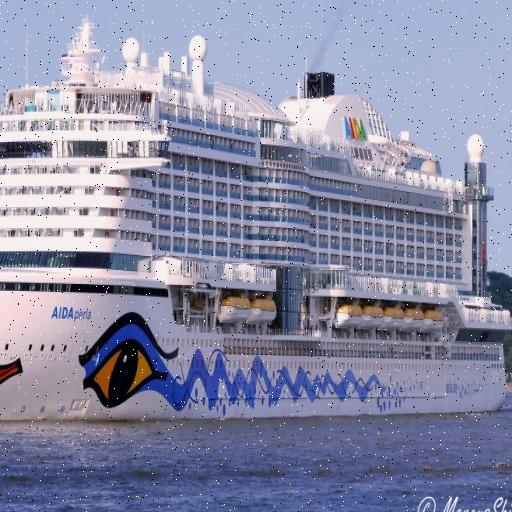cruises: (1, 11, 512, 430)
